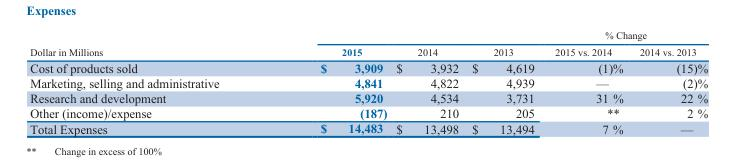table: (29, 29, 707, 135)
table column: (29, 29, 269, 135), (269, 29, 390, 135), (544, 29, 630, 135), (464, 29, 544, 135), (630, 29, 707, 135), (390, 29, 464, 135)
table column header: (29, 29, 707, 58)
table row: (29, 58, 707, 75), (29, 43, 707, 58), (29, 75, 707, 90), (29, 90, 707, 105), (29, 105, 707, 120), (29, 120, 707, 135), (29, 29, 707, 43)
table spanning cell: (29, 29, 269, 58), (269, 29, 390, 58), (464, 29, 544, 58), (544, 29, 707, 43), (390, 29, 464, 58)
